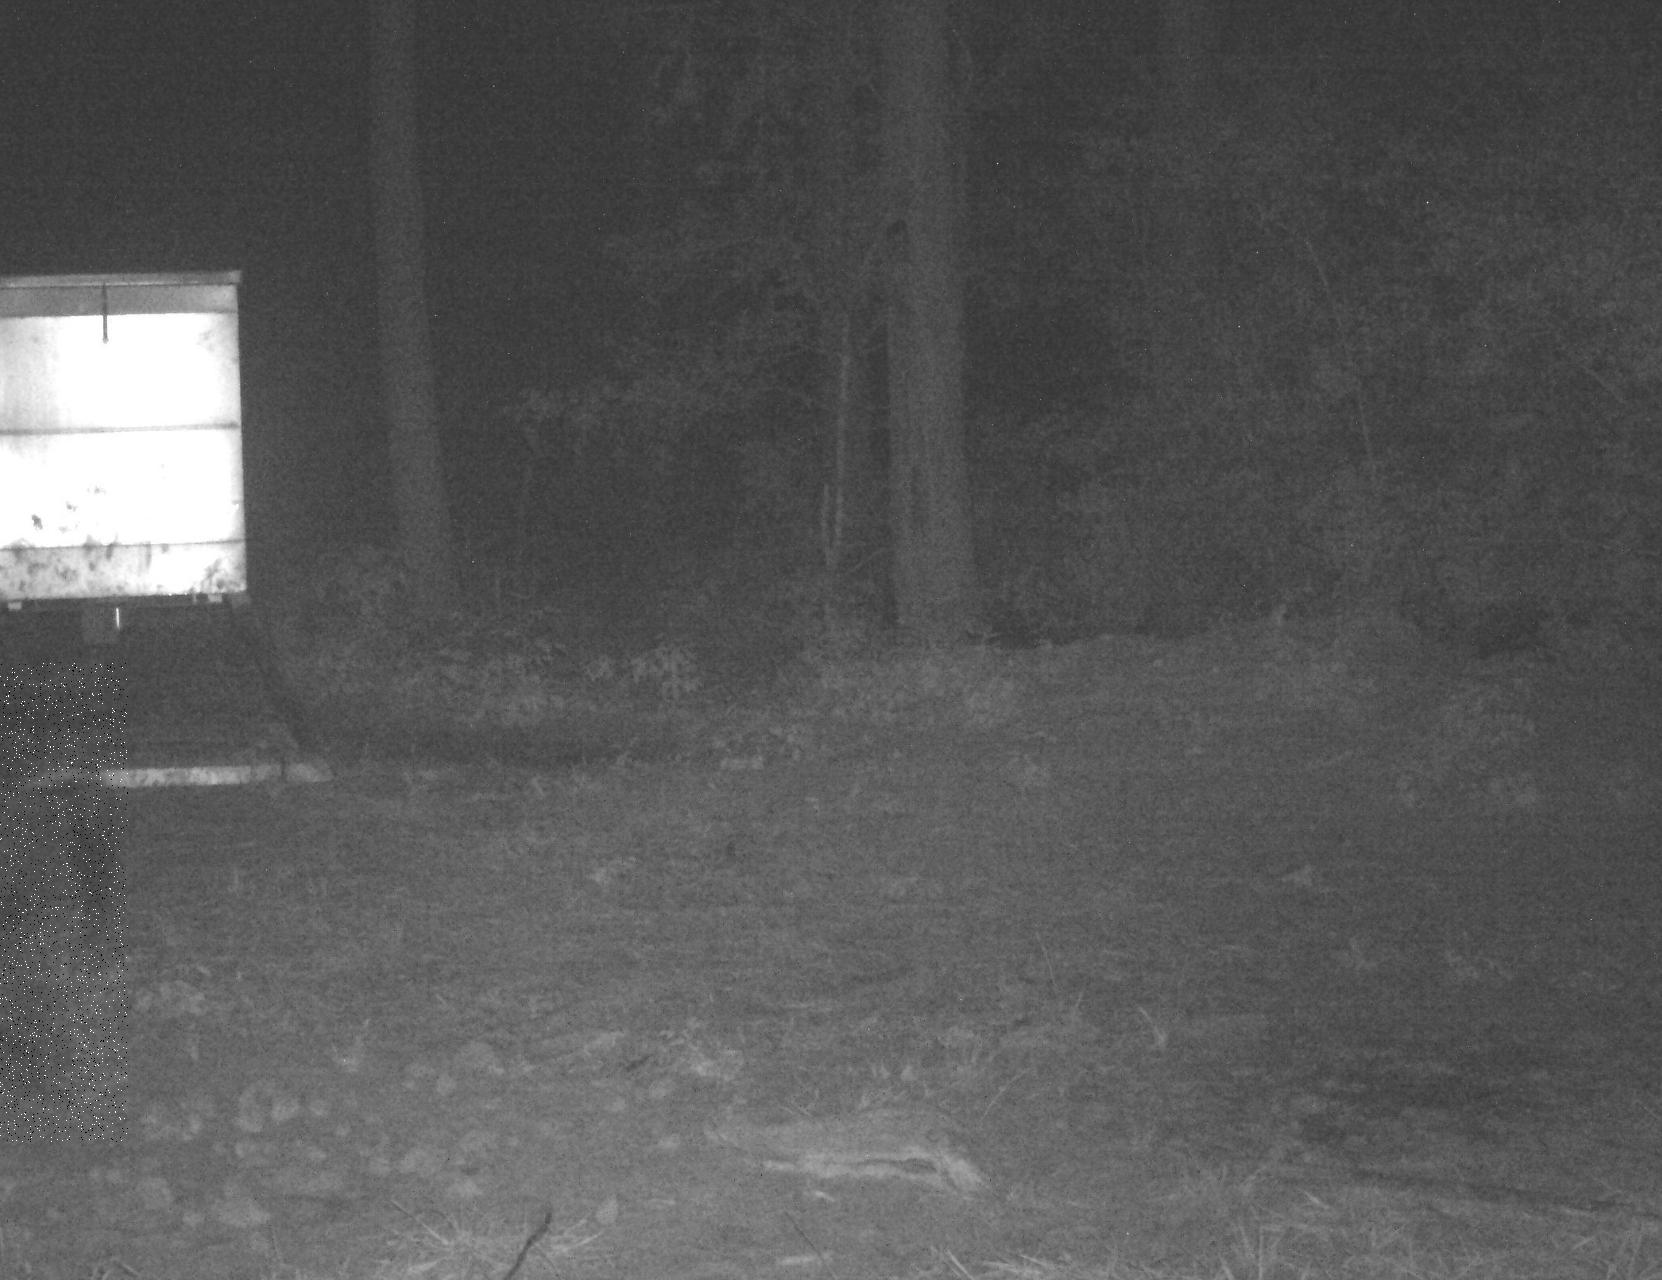Hog: (0, 662, 128, 1142)
